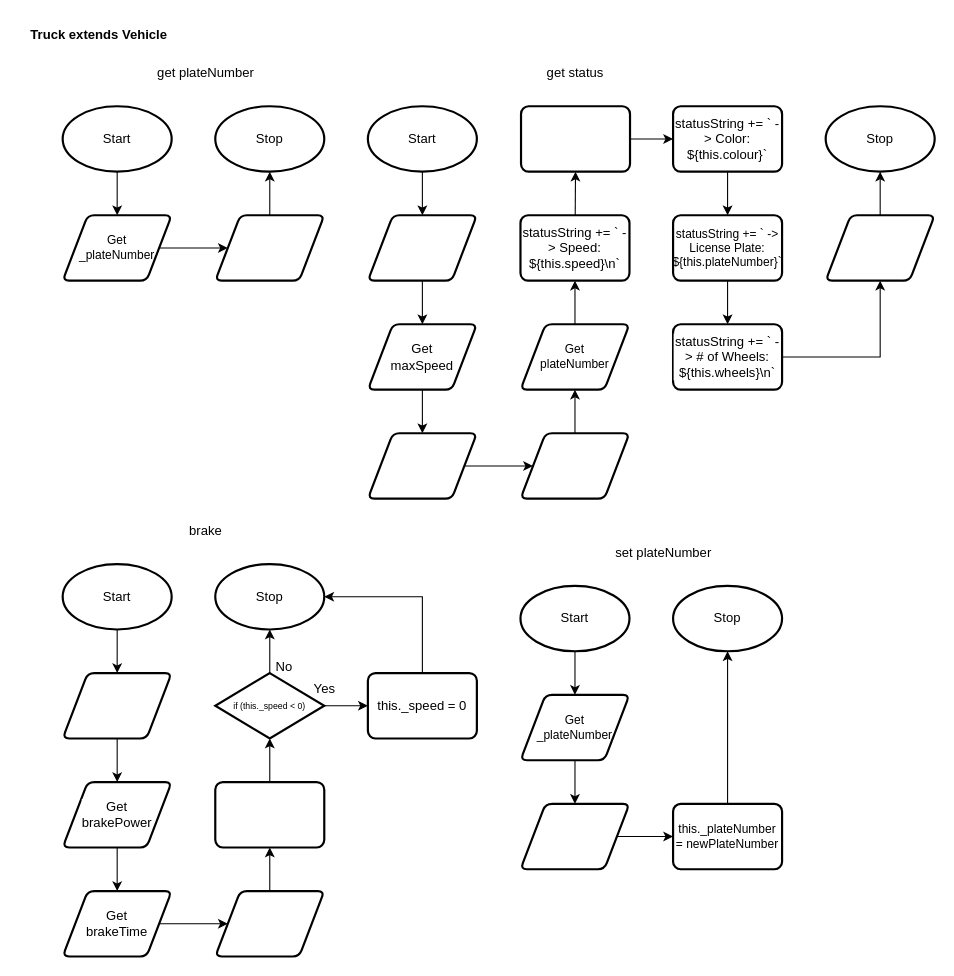
This 954x976 diagram has some shape labels left out. Each missing label, with the centre of its shape:
"Get _speed" goes at (x=116, y=705).
"Get airPressure" goes at (x=269, y=923).
"Get colour" goes at (x=421, y=465).
"Get newPlateNumber" goes at (x=574, y=836).
"Get speed" goes at (x=421, y=247).
"Get wheels" goes at (x=574, y=465).
"return _plateNumber" goes at (x=269, y=247).
"return statusString" goes at (x=879, y=247).
"statusString += ` -> MaxSpeed: ${this.maxSpeed}\n`" goes at (x=575, y=138).
"this._speed = this._speed - (breakPower * breakTime) - (airPressure * breakTime)" goes at (x=269, y=814).
